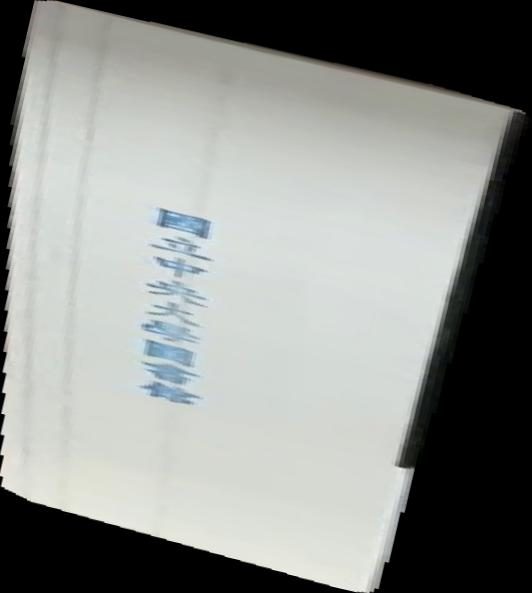backward: (1, 1, 532, 593)
